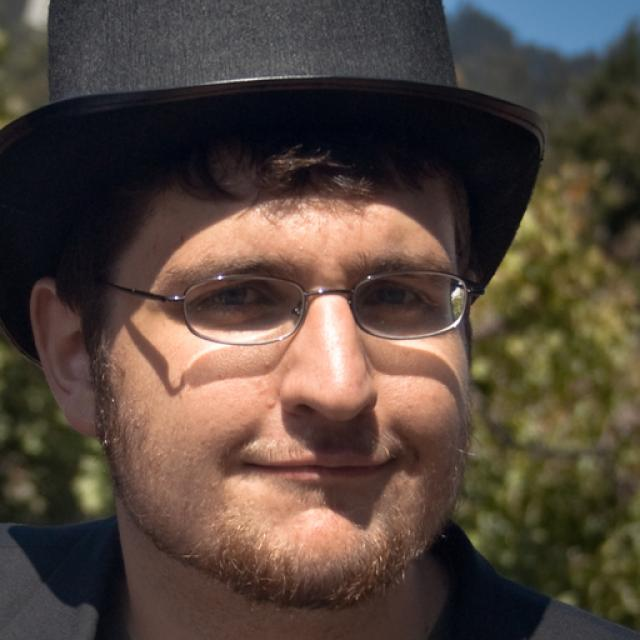Acne: (207, 368, 234, 387), (263, 394, 285, 416), (292, 240, 310, 260), (279, 358, 297, 376), (258, 359, 276, 370)
